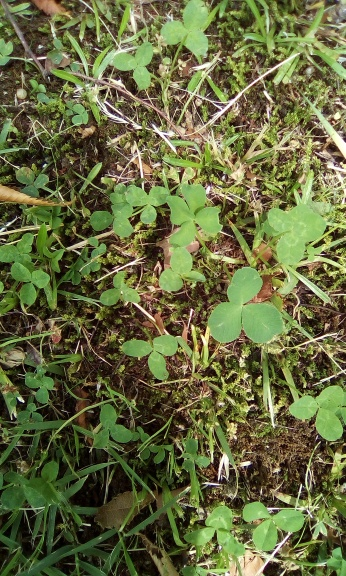4leaf: (166, 183, 223, 250)
